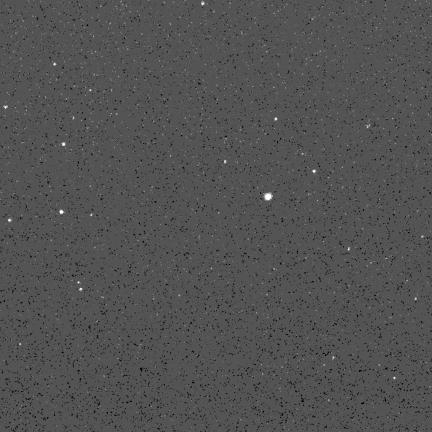blob: (264, 193, 272, 200), (312, 170, 317, 174), (201, 1, 205, 5), (60, 210, 64, 214), (79, 288, 83, 292), (275, 117, 278, 122), (53, 63, 57, 66), (9, 219, 12, 223), (415, 297, 418, 301), (62, 142, 65, 146), (4, 106, 8, 108), (224, 160, 226, 164), (90, 89, 92, 92)
